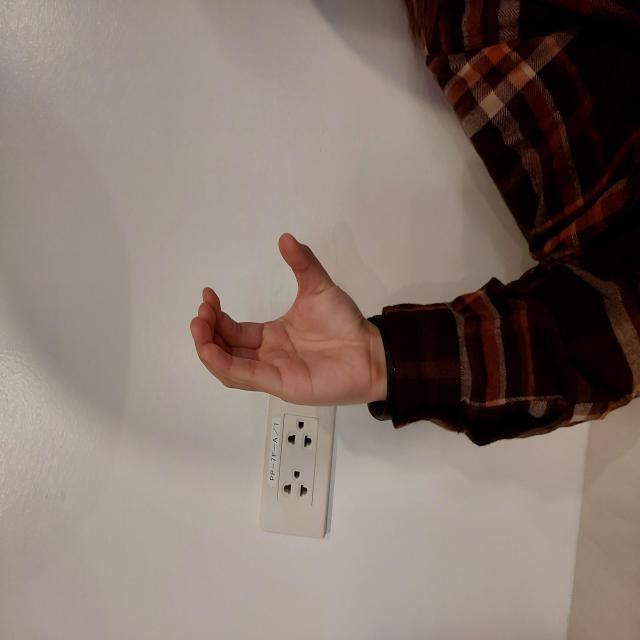C: (227, 184, 417, 378)
